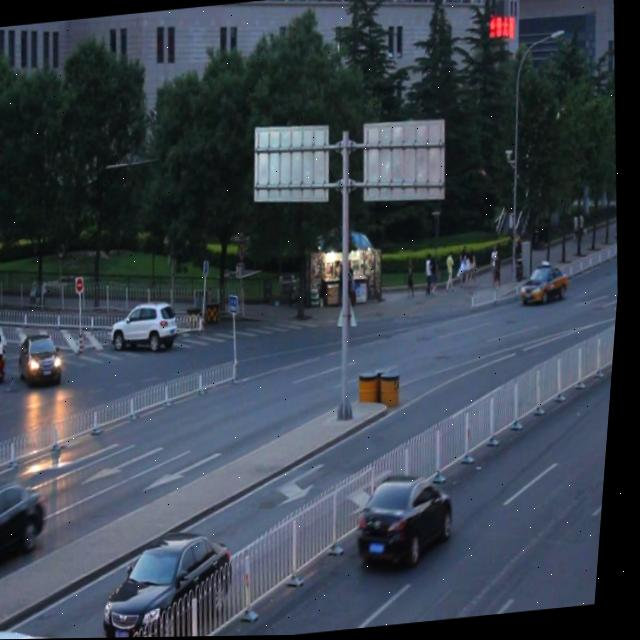car: (102, 521, 248, 638), (357, 466, 468, 575), (0, 474, 60, 570), (111, 297, 185, 355), (22, 328, 71, 384), (0, 613, 86, 640), (522, 262, 572, 304), (602, 440, 614, 531)
